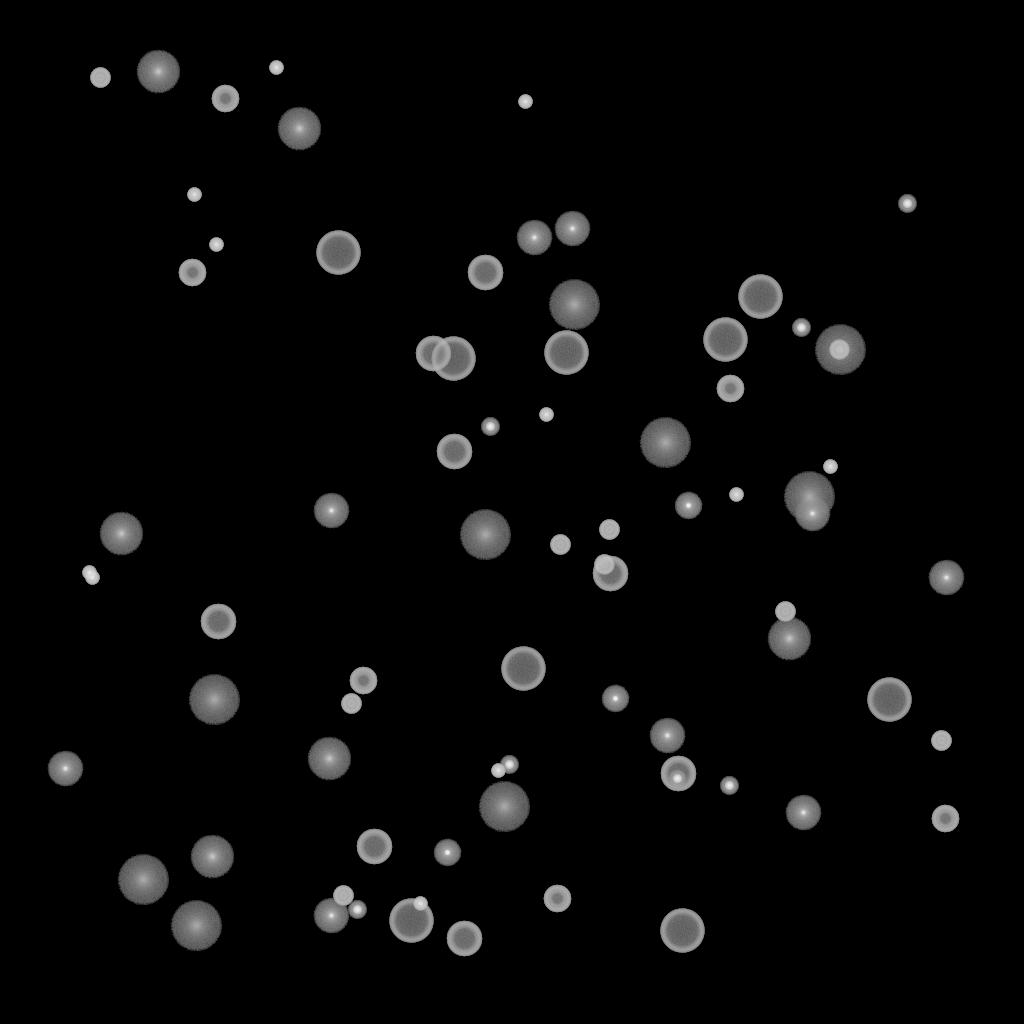depth:-10: (674, 492, 702, 520), (433, 839, 461, 867), (601, 685, 629, 713)
depth:-20: (898, 195, 916, 213), (500, 756, 518, 774), (792, 319, 810, 337), (348, 901, 366, 919), (481, 418, 499, 436), (668, 770, 686, 788), (720, 777, 738, 795)
depth:-30: (82, 566, 96, 580), (85, 571, 99, 585), (823, 460, 837, 474), (518, 95, 532, 109), (729, 488, 743, 502), (269, 61, 283, 75), (209, 238, 223, 252), (491, 764, 505, 778), (187, 188, 201, 202), (539, 408, 553, 422), (413, 897, 427, 911)
depth:-40: (550, 535, 570, 555), (333, 886, 353, 906), (90, 68, 110, 88), (599, 520, 619, 540), (775, 602, 795, 622), (594, 555, 614, 575), (931, 731, 951, 751), (829, 340, 849, 360), (341, 694, 361, 714)
depth:-50: (716, 375, 744, 403), (178, 259, 206, 287), (349, 667, 377, 695), (543, 885, 571, 913), (931, 805, 959, 833), (211, 85, 239, 113)
depth:-60: (436, 434, 472, 470), (467, 255, 503, 291), (660, 756, 696, 792), (356, 829, 392, 865), (592, 556, 628, 592), (446, 921, 482, 957), (415, 336, 451, 372), (200, 604, 236, 640)
depth:-70: (389, 899, 433, 943), (431, 337, 475, 381), (316, 231, 360, 275), (703, 318, 747, 362), (738, 275, 782, 319), (867, 678, 911, 722), (660, 909, 704, 953), (501, 647, 545, 691), (544, 331, 588, 375)
depth:0: (649, 718, 685, 754), (794, 496, 830, 532), (554, 211, 590, 247), (785, 795, 821, 831), (516, 220, 552, 256), (47, 751, 83, 787), (928, 560, 964, 596), (313, 493, 349, 529), (313, 898, 349, 934)
depth:10: (277, 107, 321, 151), (136, 50, 180, 94), (190, 835, 234, 879), (767, 617, 811, 661), (99, 512, 143, 556), (307, 737, 351, 781)
depth:20: (117, 855, 169, 905), (548, 280, 600, 330), (170, 901, 222, 951), (814, 325, 866, 375), (478, 782, 530, 832), (459, 510, 511, 560), (639, 418, 691, 468), (783, 472, 835, 522), (188, 675, 240, 725)
